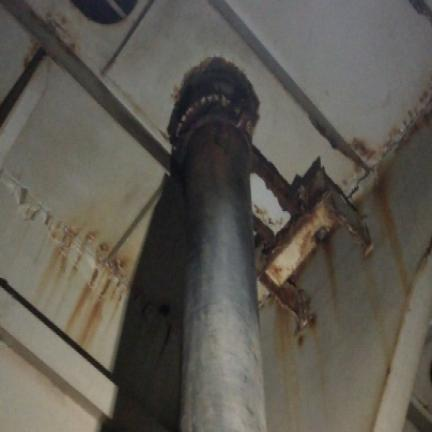besi_tidak_karat: (261, 118, 431, 431), (108, 0, 352, 184), (168, 57, 265, 431), (215, 0, 431, 163), (5, 61, 161, 257), (0, 287, 115, 416), (0, 339, 98, 431)
karat: (209, 0, 369, 171), (256, 158, 371, 325), (252, 147, 295, 212), (352, 138, 372, 155)
